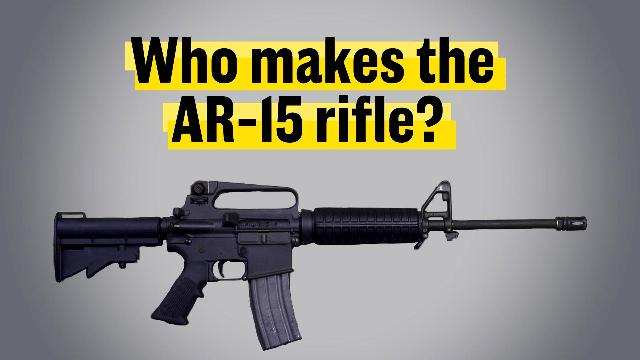rifle: (39, 166, 606, 358)
